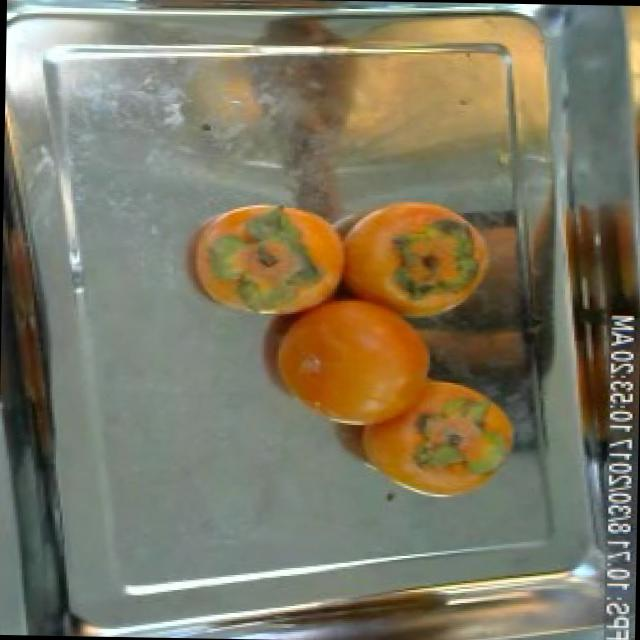Fruit: (332, 364, 532, 514), (176, 198, 344, 328)
